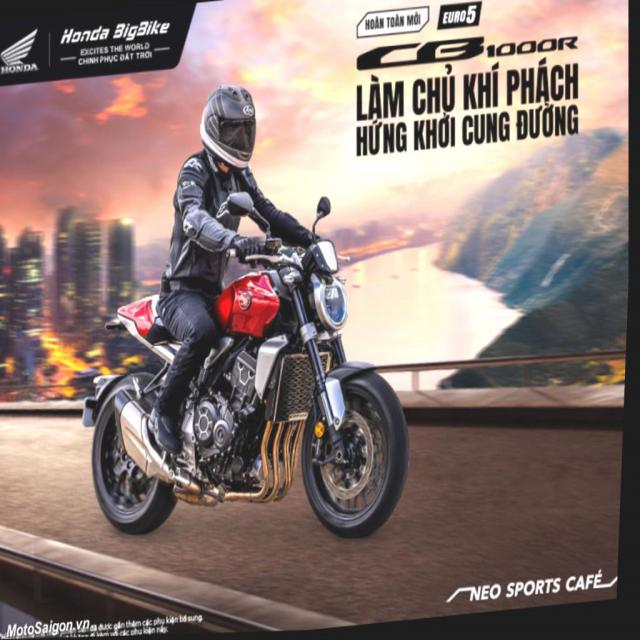CB650R: (83, 242, 426, 568)
